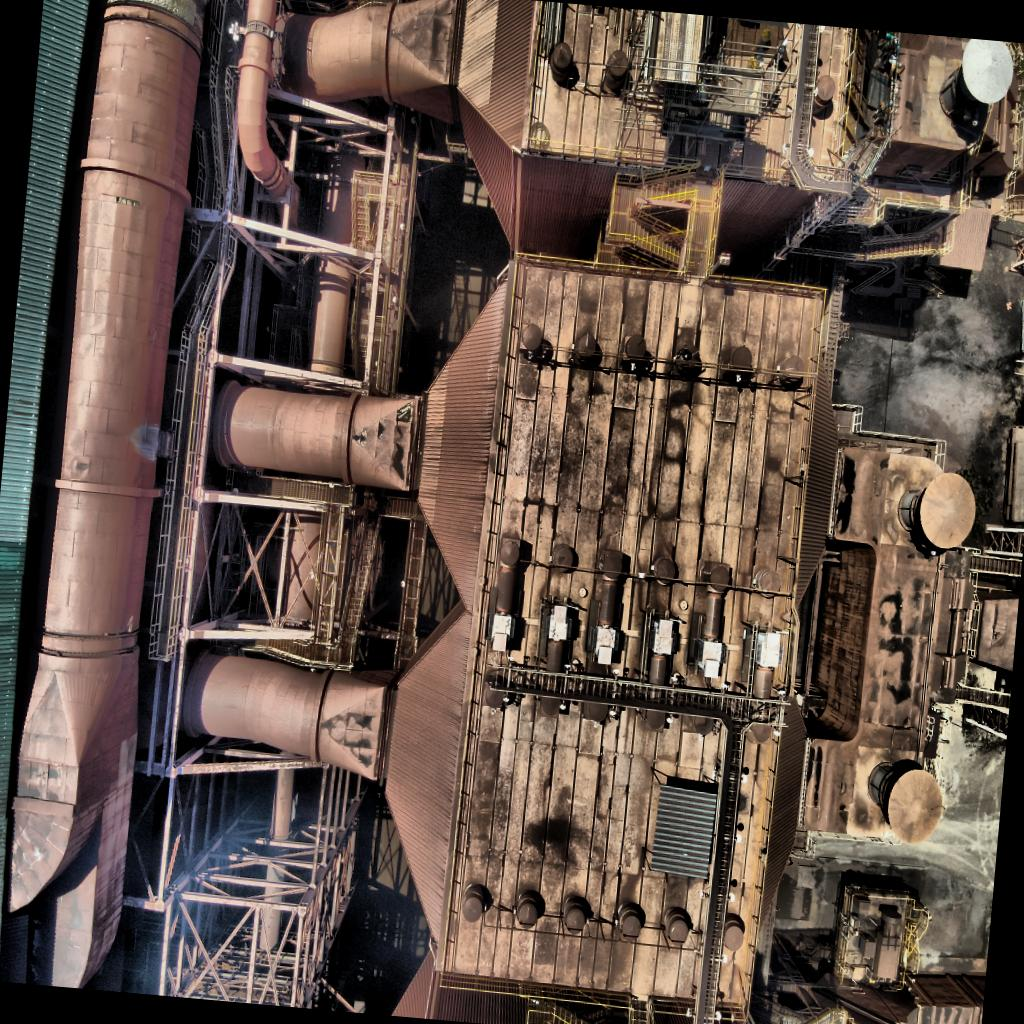Failures: (87, 0, 213, 36), (868, 712, 925, 752), (98, 609, 140, 652), (96, 188, 141, 213), (394, 394, 416, 430)
